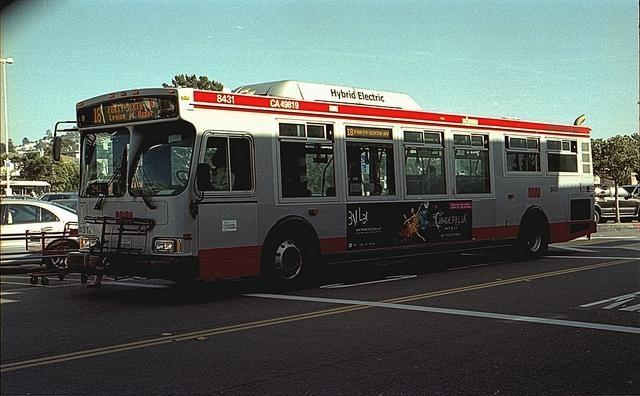bus: (76, 88, 604, 286)
car: (1, 200, 79, 270), (595, 184, 640, 224), (36, 192, 78, 200), (621, 184, 640, 198)
